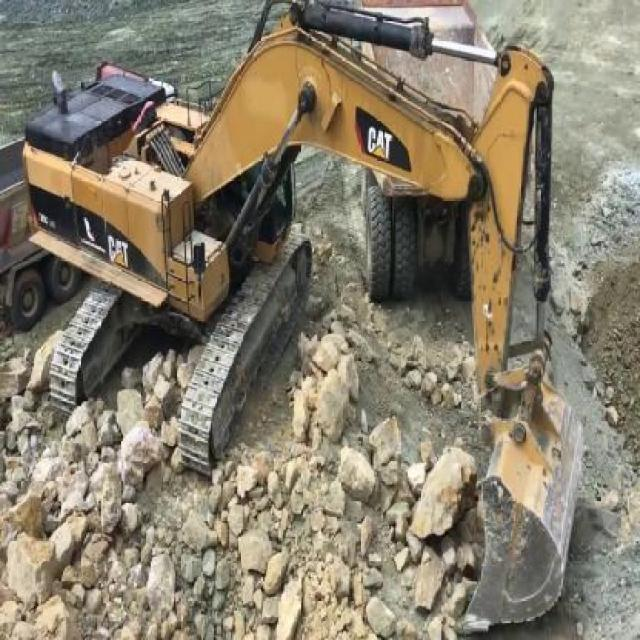Dump Truck: (351, 1, 502, 305)
Excavator: (23, 0, 586, 638)
